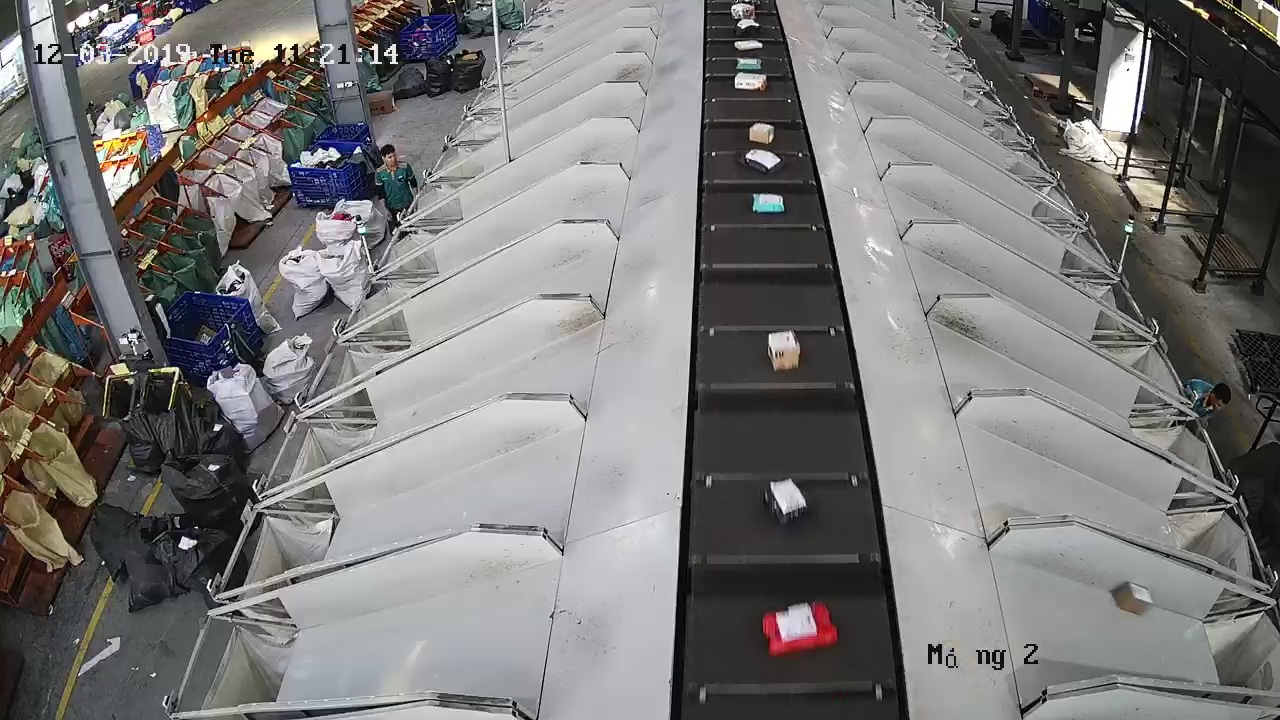parcel: (760, 600, 839, 659), (758, 476, 809, 527), (767, 328, 802, 372), (1115, 580, 1155, 616), (741, 148, 786, 176), (751, 192, 786, 215), (748, 121, 776, 145)
